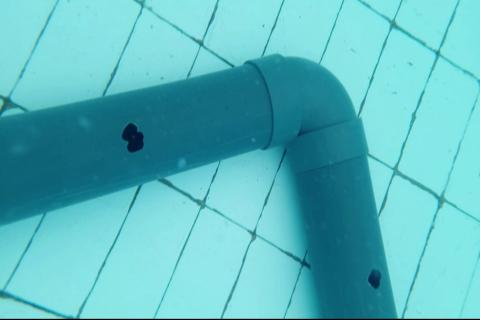kebocoran: (119, 120, 145, 153), (367, 266, 382, 289)
